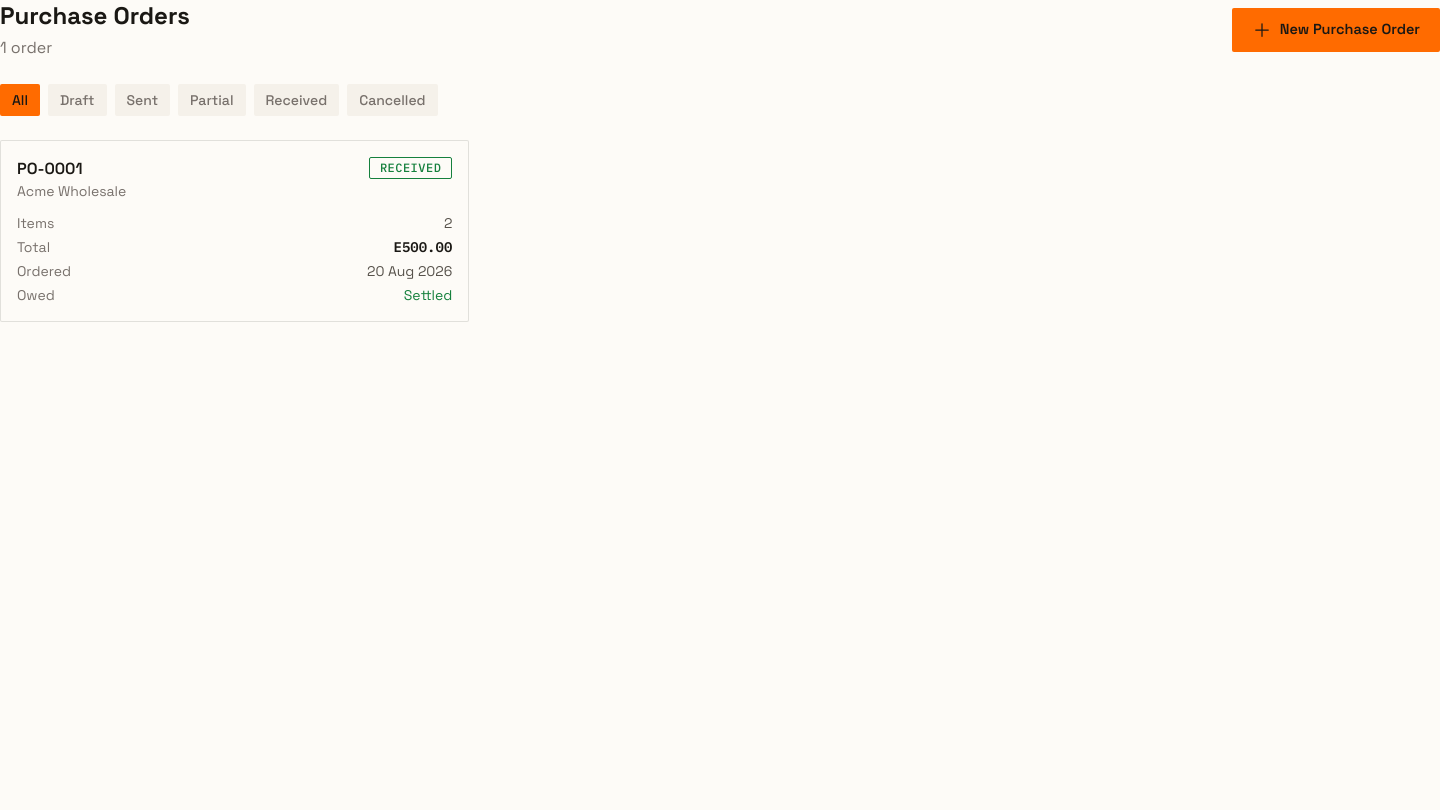
Test: PurchaseOrders — accounts payable › shows Settled and no Record Payment action once the balance is cleared
Click the heading "PO-0001".
click(50, 168)  # box [17,158,83,179]
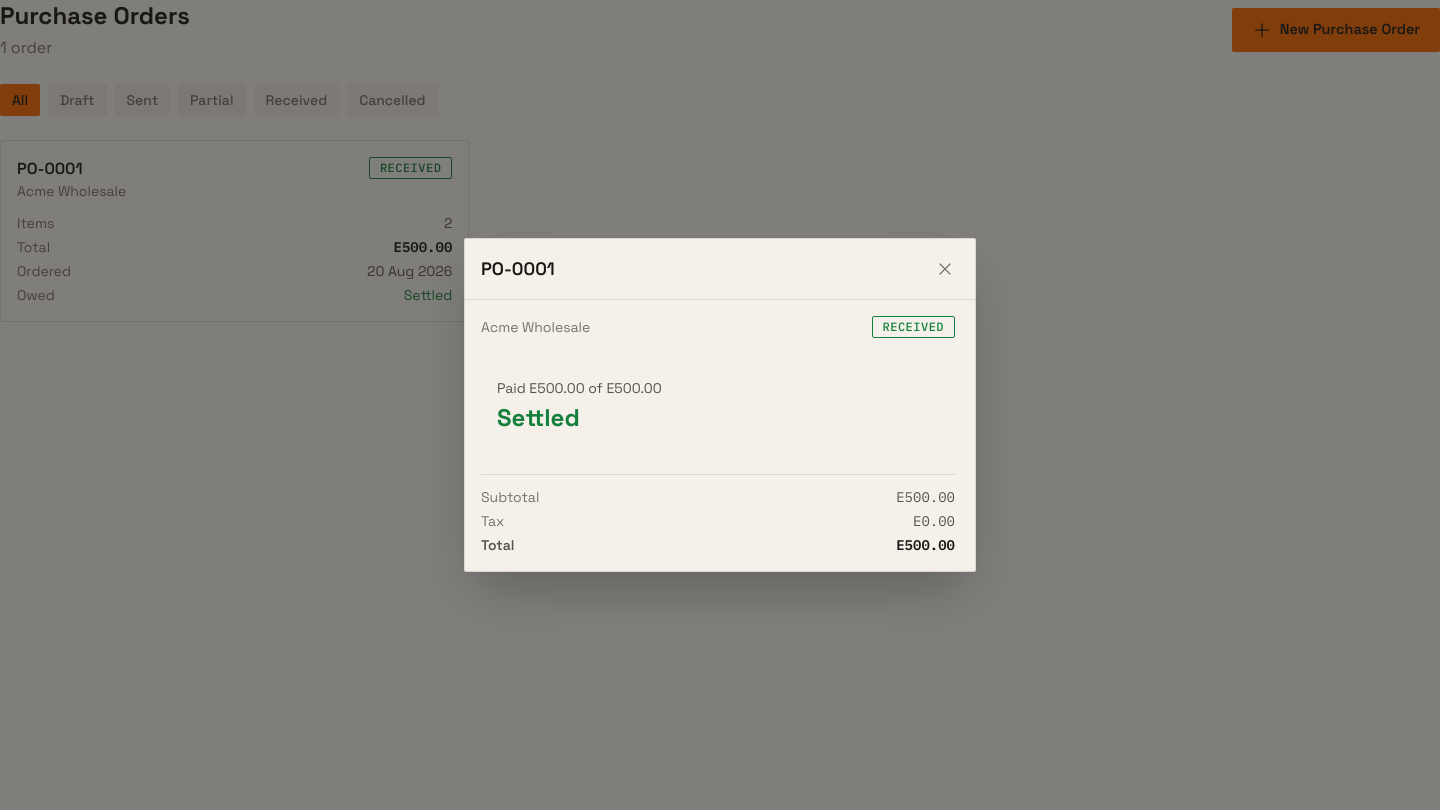
Check: the text "Paid E500.00 of E500.00" is shown once, box [497,379,662,397]
Check: the text "Settled" is shown, box [497,402,580,433]
